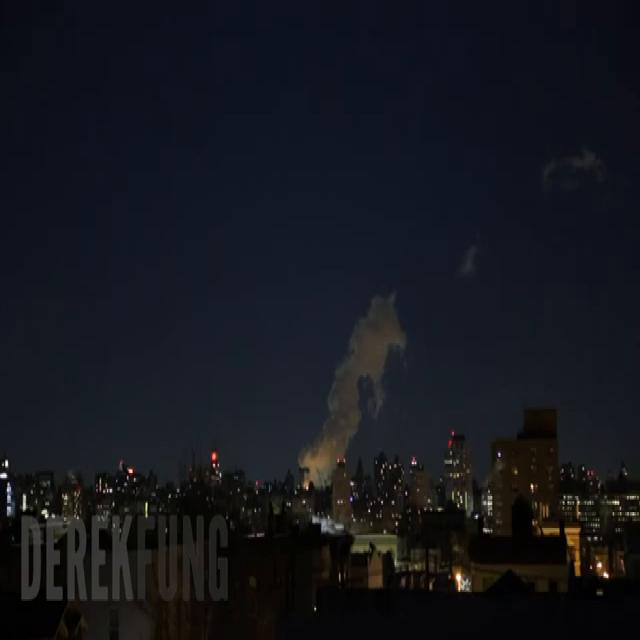smoke: (299, 295, 405, 482)
